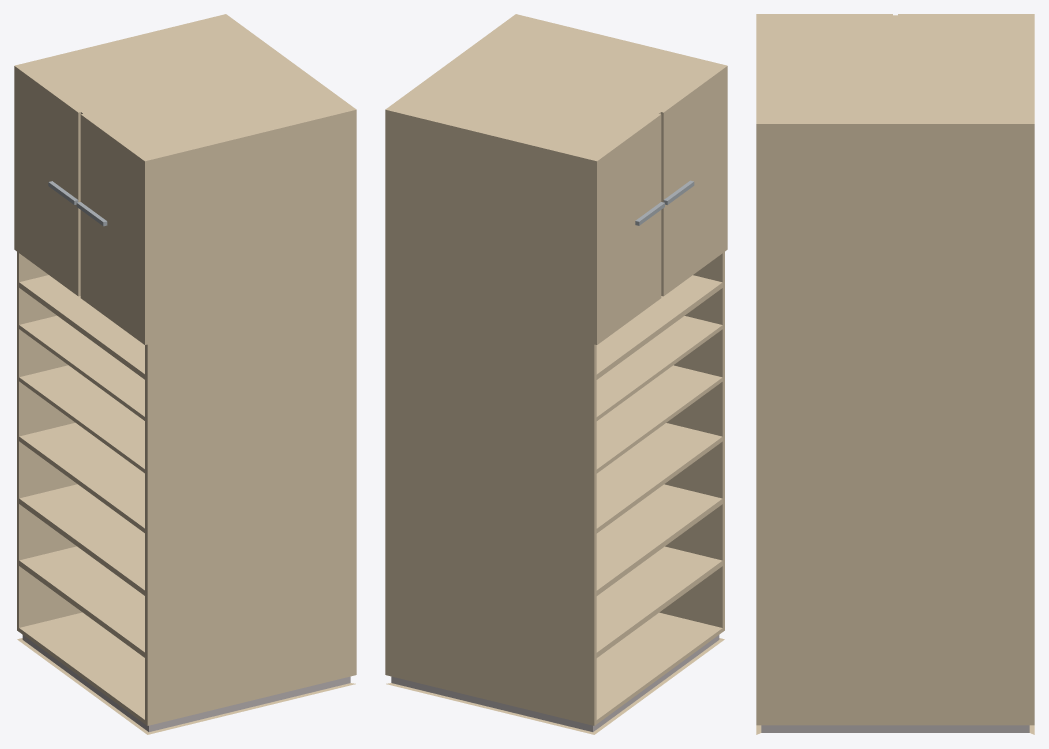
The model's file is Closet_Type_3.fbx.
3 renders of one model, left to right at view 1: azimuth 30°, elevation 25°; view 2: azimuth 150°, elevation 25°; view 3: azimuth 270°, elevation 25°, orthographic. The views are drawn at different scales.
Parts seen in each view (by area): view 1: Closet_Type_3; view 2: Closet_Type_3; view 3: Closet_Type_3.
Part boxes in pixels (x1,y1,x2,y2): Closet_Type_3: [14, 14, 356, 734]; Closet_Type_3: [385, 14, 727, 734]; Closet_Type_3: [756, 14, 1034, 734].
Size of the model in its own units: 82 by 209 by 86.
